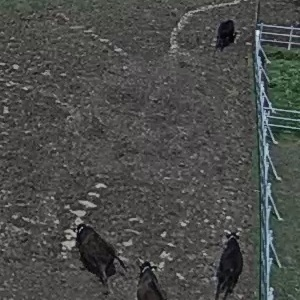cow: (66, 213, 128, 300), (205, 217, 245, 300), (131, 250, 164, 300), (210, 16, 244, 56)
